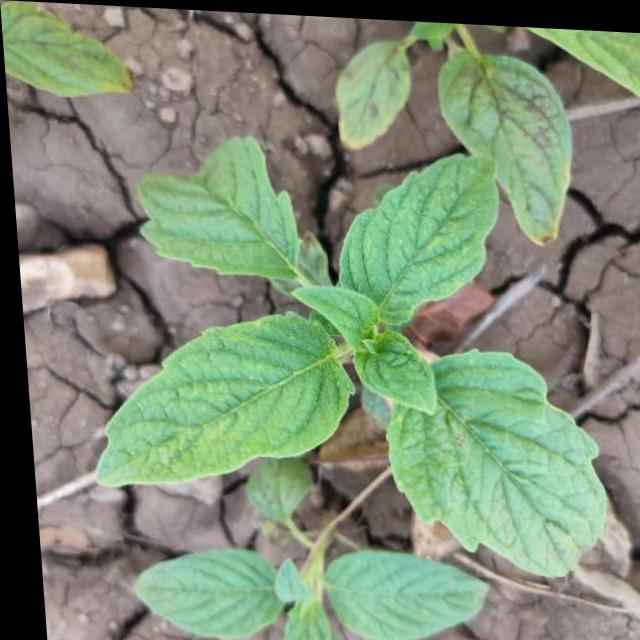crop: (51, 144, 640, 587)
